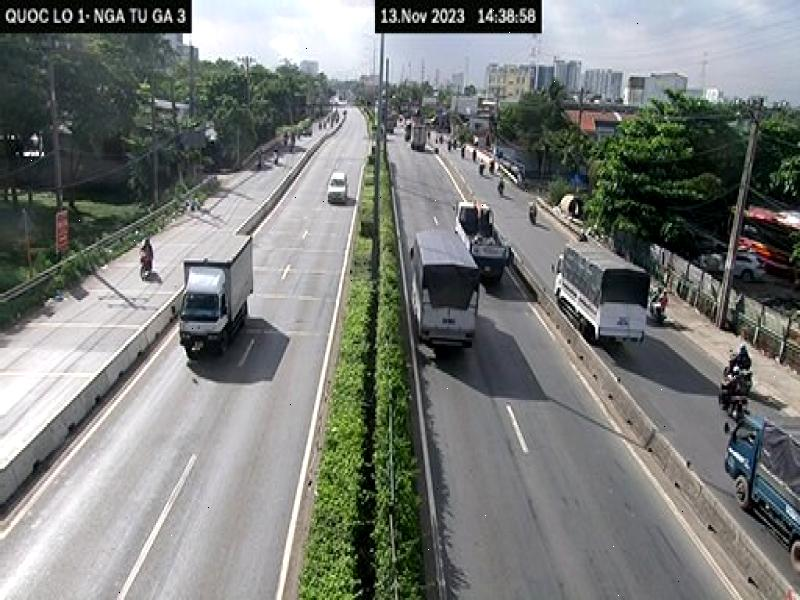truck: (726, 403, 800, 572), (554, 239, 651, 350), (178, 228, 256, 359), (406, 228, 481, 354), (454, 192, 513, 287)
